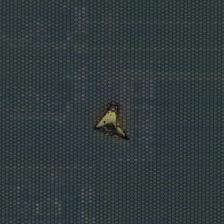BLOCK ETCH: (91, 99, 135, 145)
